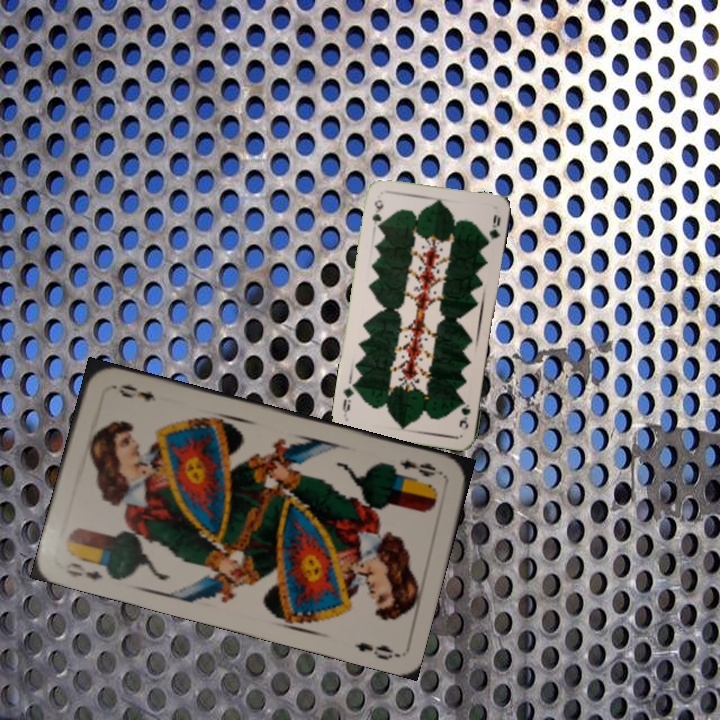EO: (61, 558, 105, 583), (395, 456, 439, 480)
G9: (455, 396, 473, 431), (368, 196, 385, 232)
